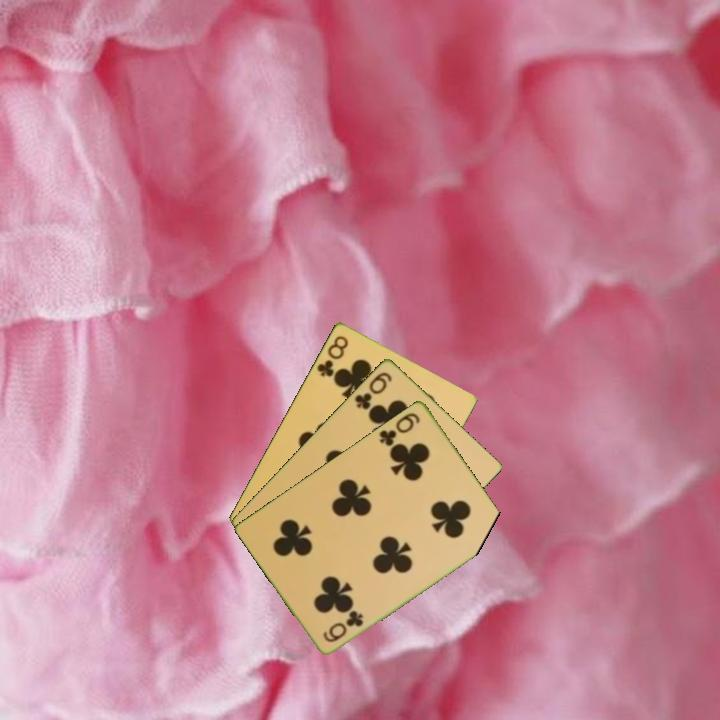6c: (351, 368, 395, 412), (375, 409, 423, 449), (319, 607, 366, 645)
8c: (313, 332, 351, 380)
